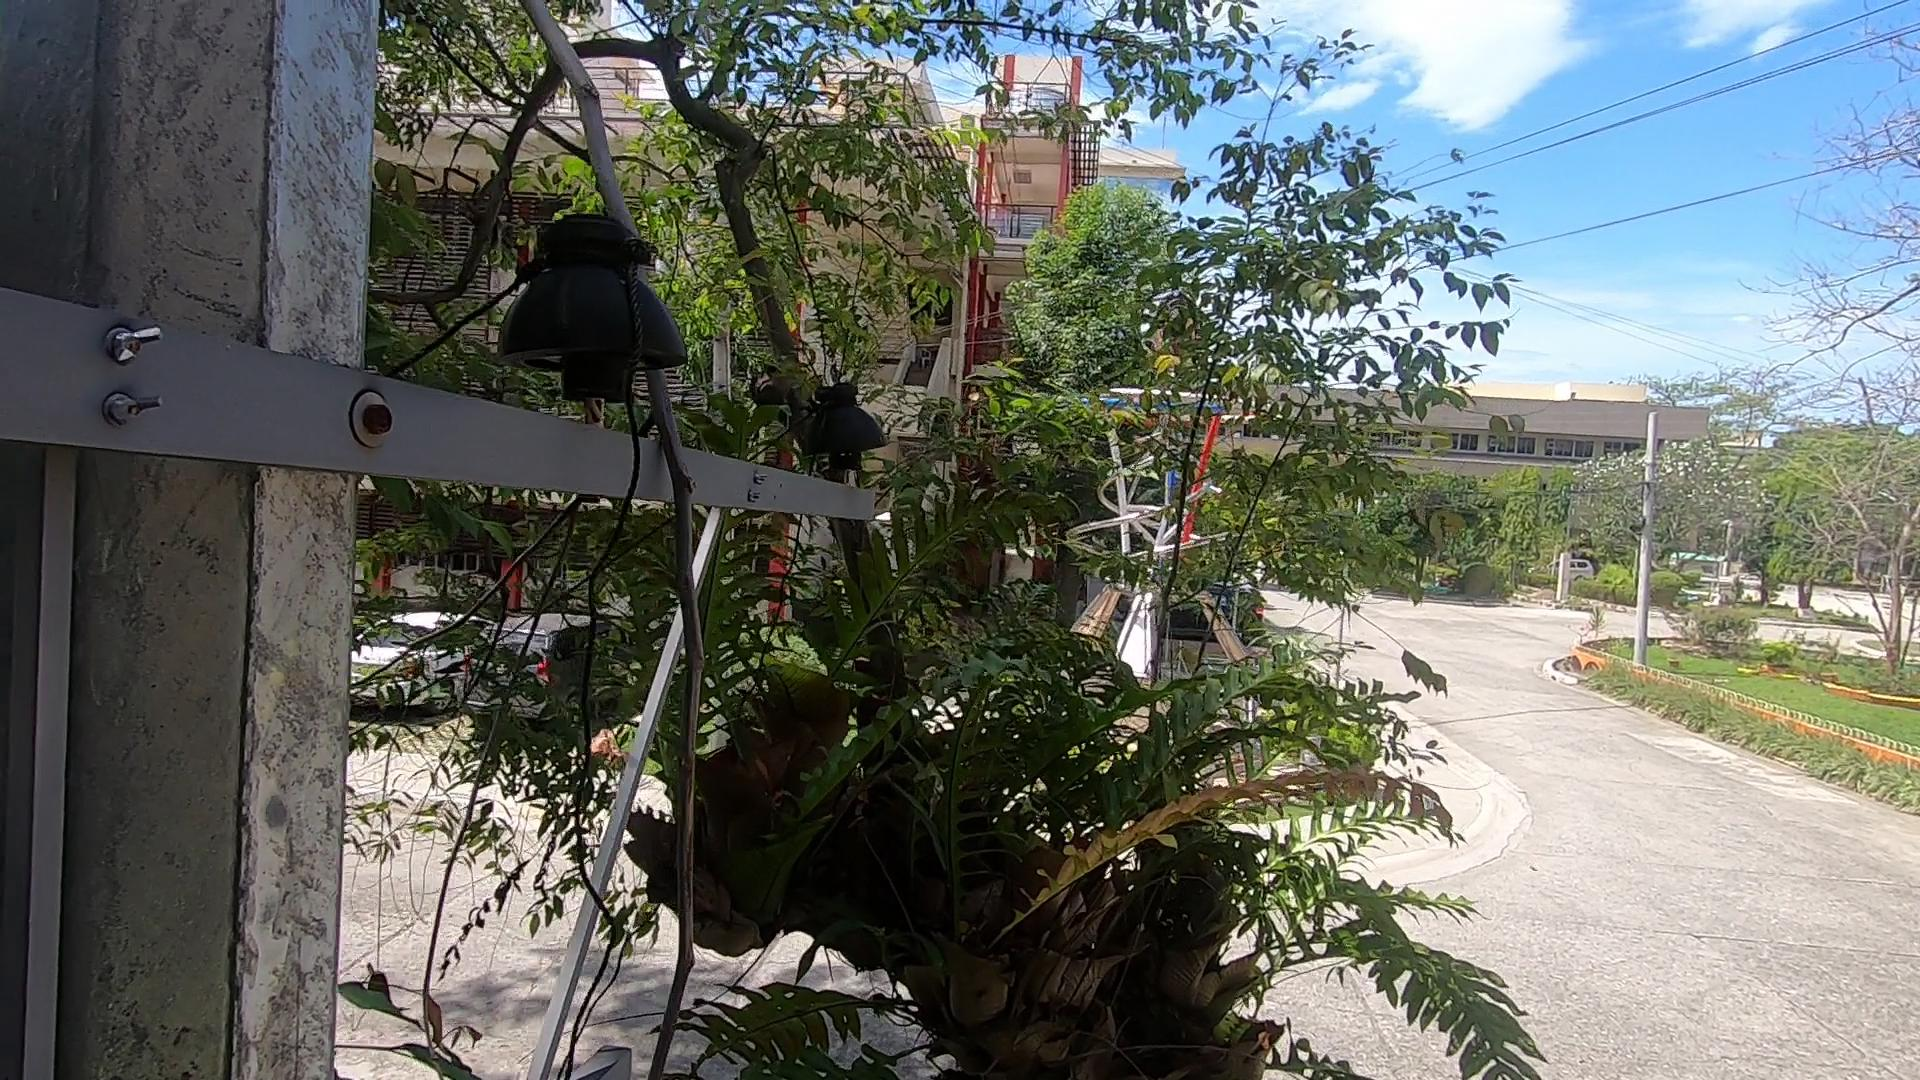tree branch: (422, 7, 756, 1080)
